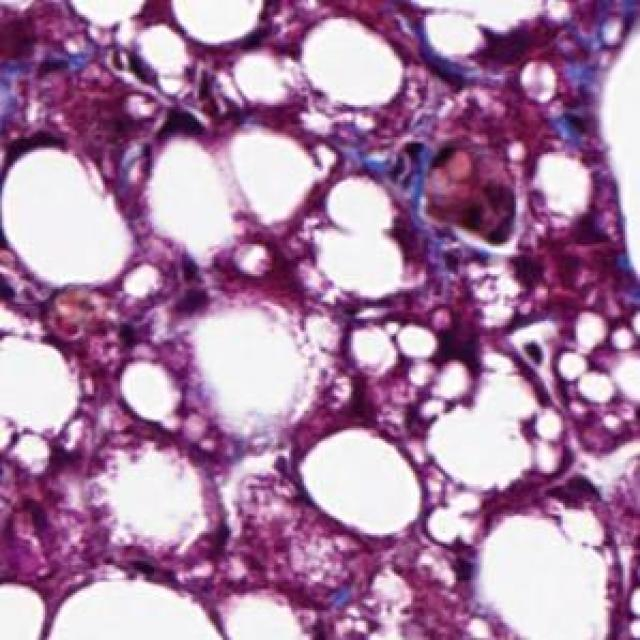inflammation: (434, 535, 484, 591)
